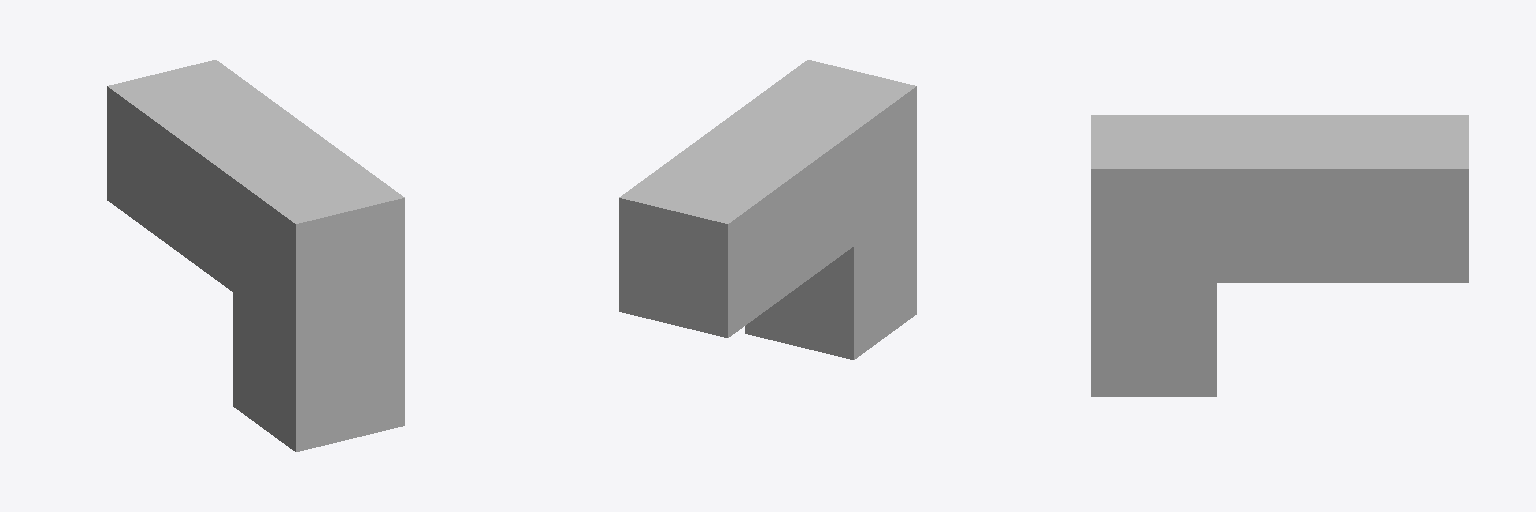
File: gun.obj
The picture shows the model from 3 angles: view 1: azimuth 30°, elevation 25°; view 2: azimuth 150°, elevation 25°; view 3: azimuth 270°, elevation 25°; orthographic projection.
Parts seen in each view (by area): view 1: pCube1 pCube2, pCube4 pCube1, pCube1 pCube3, pCube1; view 2: pCube1 pCube3, pCube1 pCube2, pCube1, pCube4 pCube1; view 3: pCube1 pCube3, pCube1, pCube1 pCube2, pCube4 pCube1.
Boxes of the visible parts, x1=… form: pCube1 pCube2: x1=233, y1=152, x2=404, y2=337; pCube4 pCube1: x1=233, y1=293, x2=404, y2=451; pCube1 pCube3: x1=107, y1=60, x2=278, y2=245; pCube1: x1=170, y1=106, x2=341, y2=291; pCube1 pCube3: x1=619, y1=152, x2=790, y2=337; pCube1 pCube2: x1=745, y1=60, x2=916, y2=245; pCube1: x1=682, y1=106, x2=853, y2=291; pCube4 pCube1: x1=745, y1=201, x2=916, y2=359; pCube1 pCube3: x1=1343, y1=115, x2=1468, y2=282; pCube1: x1=1217, y1=115, x2=1342, y2=282; pCube1 pCube2: x1=1091, y1=115, x2=1216, y2=282; pCube4 pCube1: x1=1091, y1=283, x2=1216, y2=396.
Size of the model in its own units: 1 by 2 by 3.